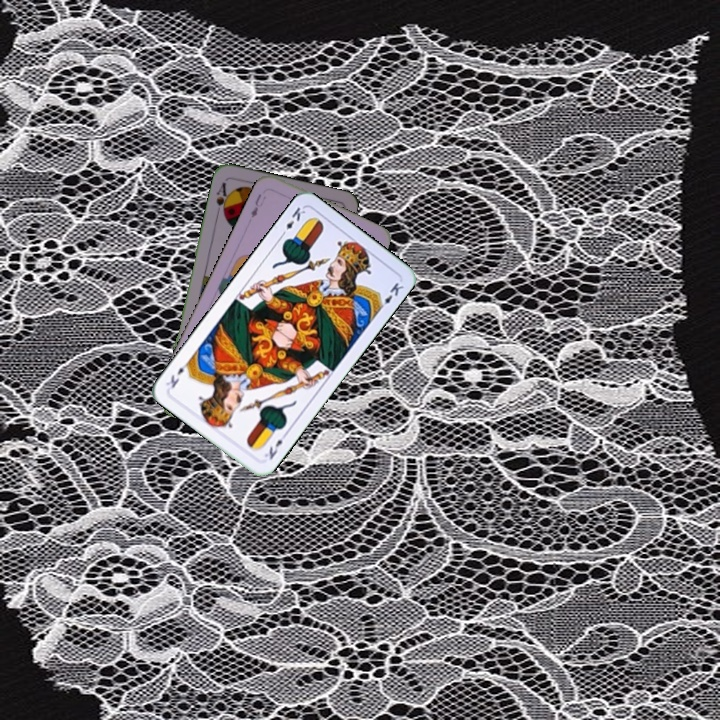EK: (277, 203, 308, 239), (260, 428, 290, 462)
EU: (247, 190, 269, 220)
SA: (212, 178, 233, 219)
